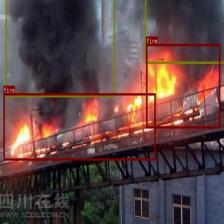fire: (4, 93, 156, 160), (146, 44, 220, 128)
smoke: (5, 0, 114, 97), (144, 0, 224, 63)
